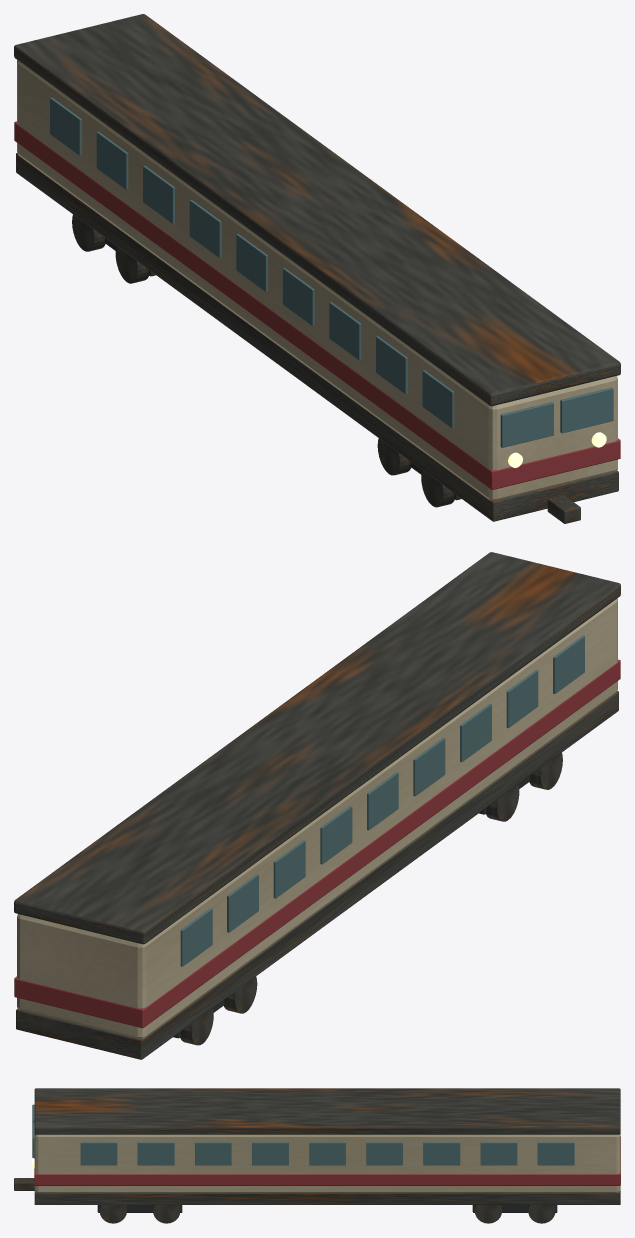
The model's file is gerbong.glb.
3 views of the same model, one above another, from view 1: azimuth 30°, elevation 25°; view 2: azimuth 150°, elevation 25°; view 3: azimuth 270°, elevation 25° (orthographic). The views are drawn at different scales.
Parts seen in each view (by area): view 1: Atap.001, Bodi.001, Sabuk marun.001, Sasis.001, Kaca depan.003, Kaca depan.002, Jendela.009, Jendela.011, Jendela.006, Jendela.004, Jendela.007, Jendela.012 (+8 smaller); view 2: Atap.001, Bodi.001, Sasis.001, Sabuk marun.001, Jendela.005, Jendela.007, Jendela.010, Jendela.009, Jendela.012, Jendela.008, Jendela.004, Jendela.006 (+5 smaller); view 3: Atap.001, Bodi.001, Sabuk marun.001, Sasis.001, Jendela.013, Jendela.014, Jendela.019, Jendela.020, Jendela.021, Jendela.015, Jendela.016, Jendela.017 (+8 smaller).
Part boxes in pixels (x1,y1,x2,y2): Atap.001: [14, 14, 620, 406]; Bodi.001: [17, 60, 617, 500]; Sabuk marun.001: [14, 121, 620, 489]; Sasis.001: [16, 153, 618, 521]; Kaca depan.003: [560, 387, 613, 433]; Kaca depan.002: [500, 402, 553, 447]; Jendela.009: [189, 199, 221, 258]; Jendela.011: [96, 131, 128, 189]; Jendela.006: [329, 302, 361, 360]; Jendela.004: [422, 370, 454, 428]; Jendela.007: [282, 268, 314, 326]; Jendela.012: [50, 97, 81, 155]; Atap.001: [14, 552, 620, 944]; Bodi.001: [17, 598, 617, 1039]; Sasis.001: [16, 691, 618, 1059]; Sabuk marun.001: [14, 659, 620, 1028]; Jendela.005: [506, 669, 538, 728]; Jendela.007: [413, 738, 445, 796]; Jendela.010: [273, 840, 305, 898]; Jendela.009: [320, 806, 352, 864]; Jendela.012: [180, 908, 212, 966]; Jendela.008: [367, 772, 398, 830]; Jendela.004: [553, 635, 584, 693]; Jendela.006: [460, 704, 491, 762]; Atap.001: [34, 1088, 620, 1134]; Bodi.001: [34, 1134, 620, 1193]; Sabuk marun.001: [34, 1136, 620, 1185]; Sasis.001: [34, 1191, 620, 1204]; Jendela.013: [80, 1142, 117, 1165]; Jendela.014: [137, 1142, 174, 1165]; Jendela.019: [423, 1142, 460, 1165]; Jendela.020: [480, 1142, 517, 1165]; Jendela.021: [537, 1142, 574, 1165]; Jendela.015: [195, 1142, 231, 1165]; Jendela.016: [252, 1142, 288, 1165]; Jendela.017: [309, 1142, 345, 1165].
Bounding box in the file's own units: 2.89 × 3.33 × 18.64.
Materials: 6 (2 with a texture image).
